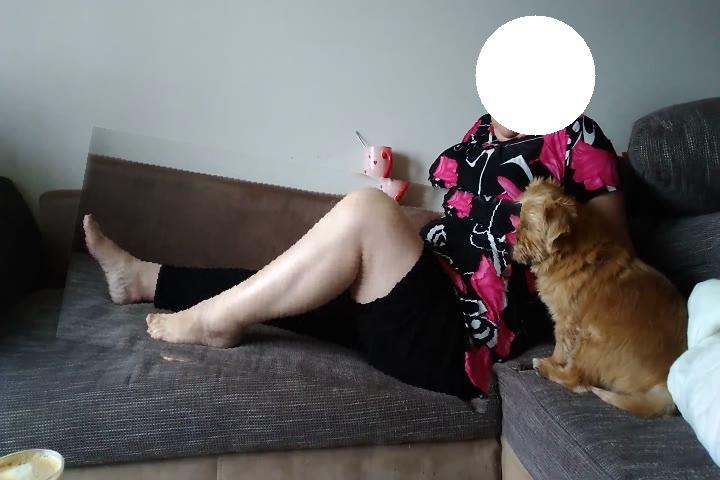lower_body: (65, 145, 516, 396)
